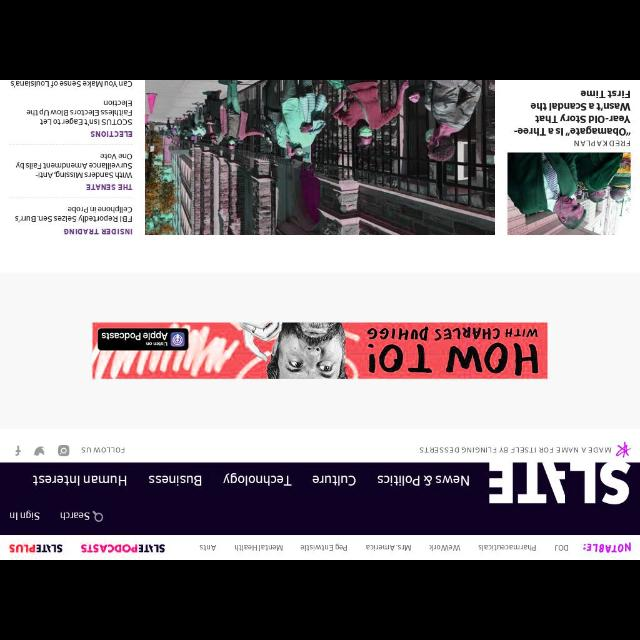icon: (92, 510, 104, 522), (59, 446, 70, 456), (34, 446, 44, 456), (15, 446, 21, 456)
image: (145, 82, 495, 235), (92, 322, 548, 378), (508, 153, 630, 235), (489, 463, 631, 505), (81, 544, 165, 552), (583, 543, 631, 553), (10, 544, 62, 552), (616, 442, 630, 458)
multitab: (1, 536, 639, 560)
text: (514, 90, 630, 136), (16, 153, 132, 179), (26, 100, 132, 126), (16, 205, 132, 222), (420, 447, 610, 453), (32, 474, 126, 486), (377, 474, 469, 486), (222, 472, 292, 486), (10, 81, 132, 87), (148, 475, 202, 487), (312, 474, 356, 486), (478, 544, 536, 552), (64, 228, 132, 234), (300, 543, 348, 551), (235, 544, 283, 552), (366, 544, 410, 552), (574, 140, 630, 146), (86, 183, 132, 190), (10, 510, 40, 520), (81, 447, 125, 453), (90, 131, 132, 137), (60, 512, 90, 520), (428, 545, 459, 551), (200, 544, 216, 550), (554, 545, 568, 551)
toolbar: (1, 462, 639, 534)
